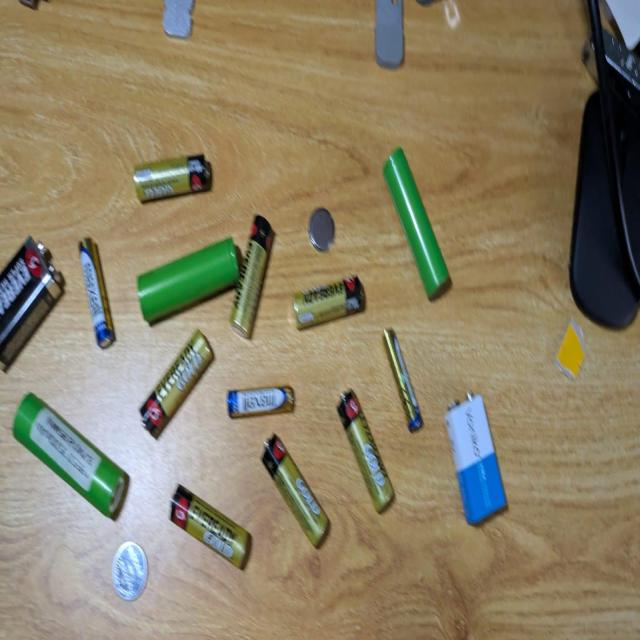9V: (0, 236, 65, 373), (444, 391, 507, 526)
AA: (138, 327, 216, 442), (260, 429, 329, 547), (337, 389, 395, 516), (168, 483, 250, 571), (230, 214, 275, 340), (132, 153, 212, 204), (292, 276, 364, 332)
AAA: (382, 326, 422, 433), (78, 236, 115, 350), (226, 385, 294, 419)
COIN: (113, 537, 151, 600), (307, 207, 335, 252)
